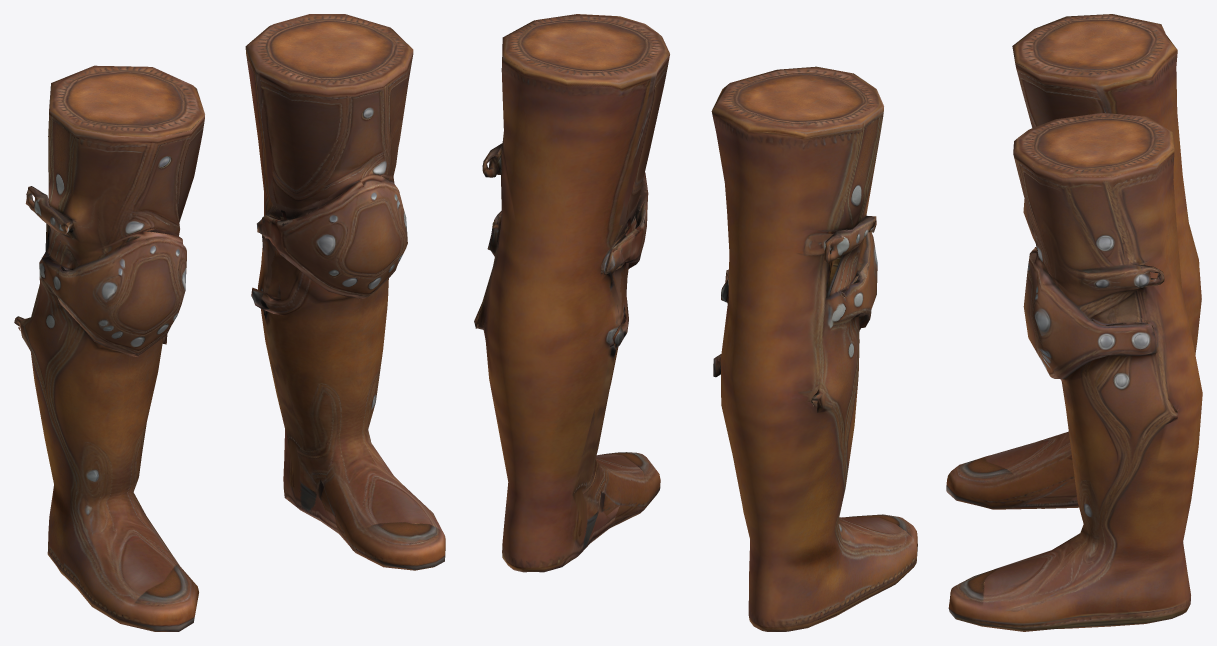
The model's file is legs-leather-hard-leather_backup.glb.
3 views of the same model, side by side, from view 1: azimuth 30°, elevation 25°; view 2: azimuth 150°, elevation 25°; view 3: azimuth 270°, elevation 25° (orthographic). The views are drawn at different scales.
Bounding box in the file's own units: 1.5 × 2 × 1.
1 material, 1 textured.
